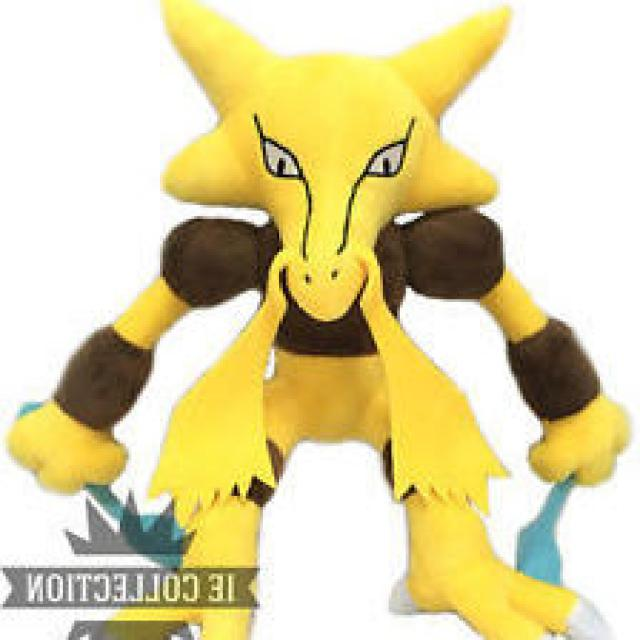Alakazam: (138, 8, 526, 640)
